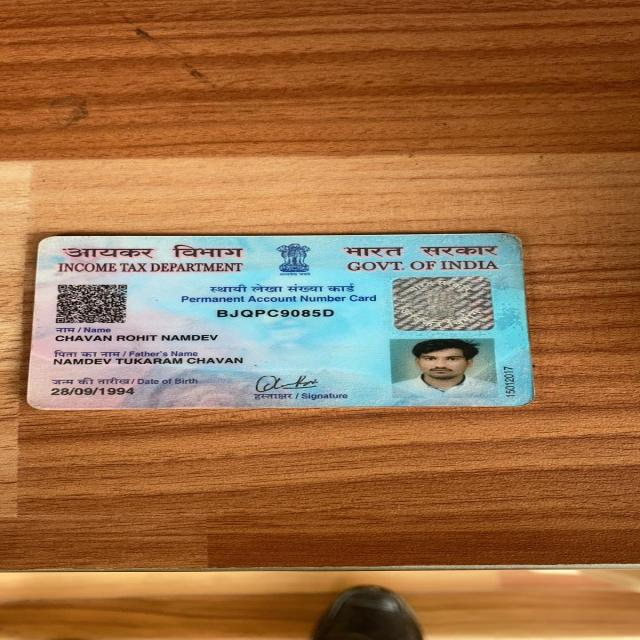pan_card: (33, 236, 529, 404)
